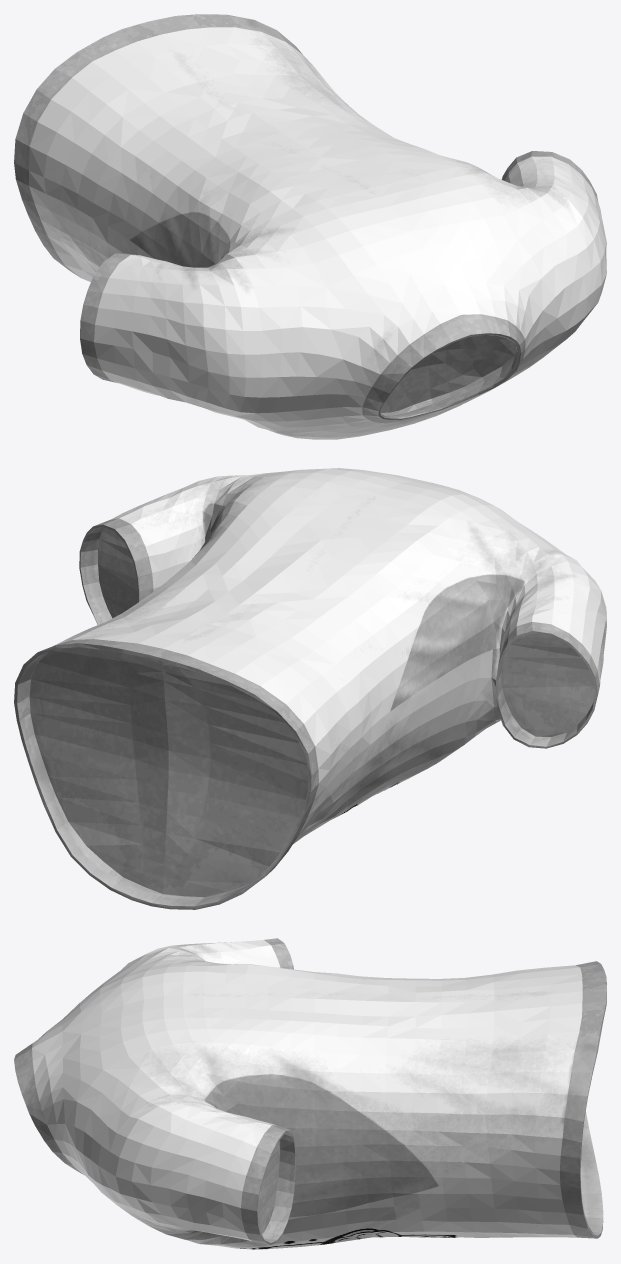
Rendered from shirt.obj.
3 renders of one model, top to bottom at view 1: azimuth 30°, elevation 25°; view 2: azimuth 150°, elevation 25°; view 3: azimuth 270°, elevation 25°, orthographic. The views are drawn at different scales.
Visible parts, largest first — view 1: Object.1; view 2: Object.1; view 3: Object.1.
Boxes of the visible parts, x1=… form: Object.1: x1=14, y1=14, x2=606, y2=439; Object.1: x1=14, y1=468, x2=606, y2=909; Object.1: x1=14, y1=938, x2=606, y2=1249.
Size of the model in its own units: 0.4767 by 0.2267 by 0.512.
